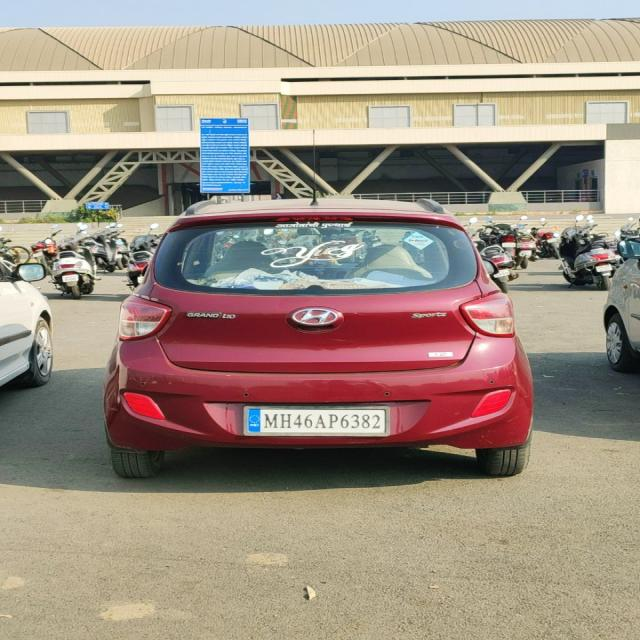Number-Plate: (249, 406, 387, 434)
